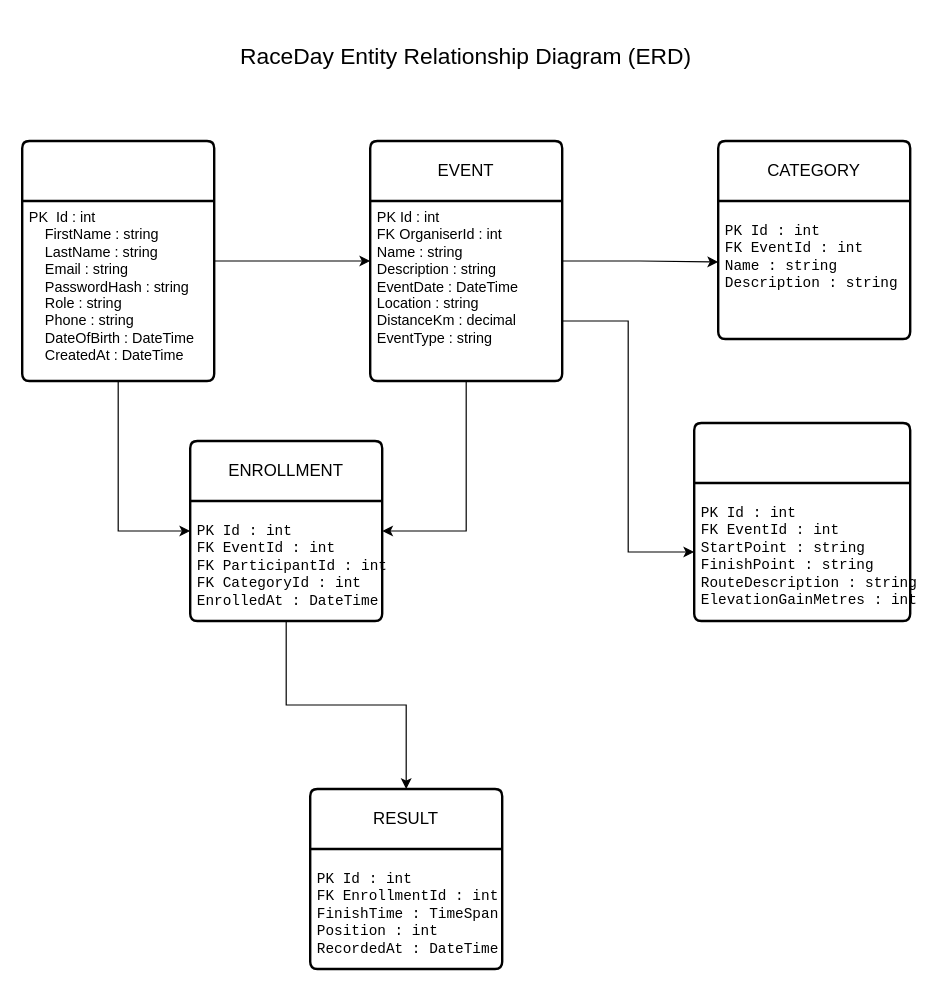
The diagram is 937 pixels wide and 992 high, and some of its shapes have lost their labels. The shapes that lost their labels are listed below. From the top down, each one's box as (x1, y1, x2, y2) in pixels, then its label:
(20, 139, 215, 382): USER
(692, 421, 911, 622): ROUTEINFO
